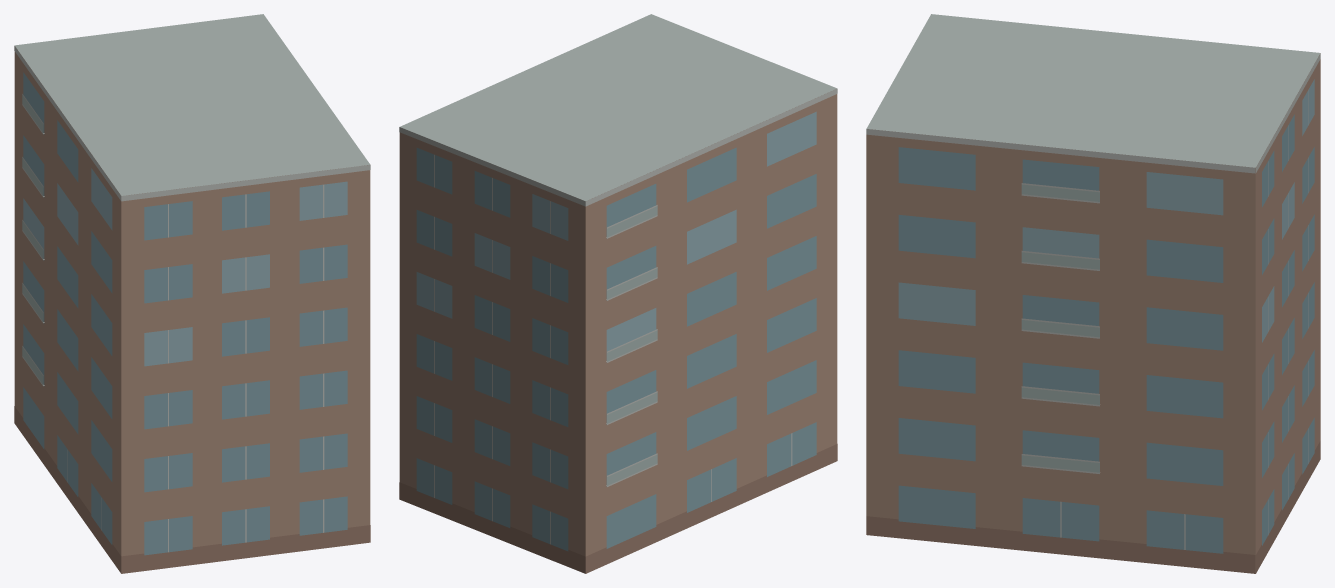
The model's file is survey-upis-32531681.glb.
3 views of the same model, side by side, from view 1: azimuth 30°, elevation 25°; view 2: azimuth 150°, elevation 25°; view 3: azimuth 270°, elevation 25° (orthographic). The views are drawn at different scales.
Parts seen in each view (by area): view 1: survey-upis-32531681.tmp; view 2: survey-upis-32531681.tmp; view 3: survey-upis-32531681.tmp.
Part boxes in pixels (bbox=[...]): survey-upis-32531681.tmp: bbox=[14, 14, 370, 573]; survey-upis-32531681.tmp: bbox=[399, 14, 837, 573]; survey-upis-32531681.tmp: bbox=[866, 14, 1320, 573].
Size of the model in its own units: 13.89 by 17.1 by 17.34.
